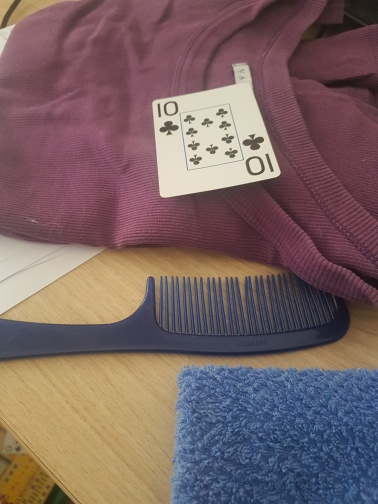ten: (152, 84, 282, 199)
